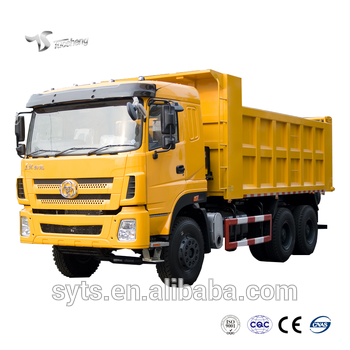truck: (15, 69, 328, 288)
